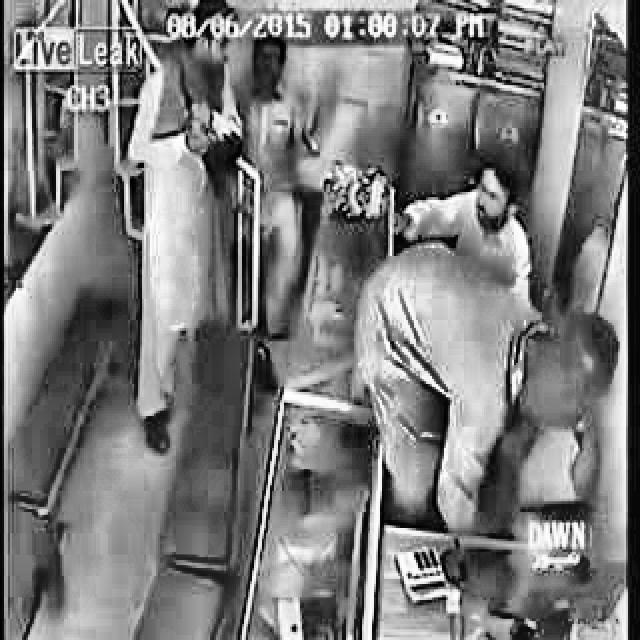Weapon: (115, 3, 364, 337), (371, 253, 622, 532), (410, 122, 601, 244), (235, 29, 340, 130)
